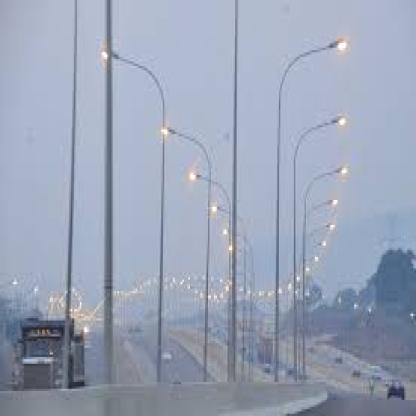light_pole: (273, 37, 347, 385), (102, 48, 168, 384), (293, 112, 346, 378), (162, 123, 213, 385), (302, 166, 347, 384), (189, 171, 234, 385), (303, 198, 339, 380), (211, 205, 235, 378)
